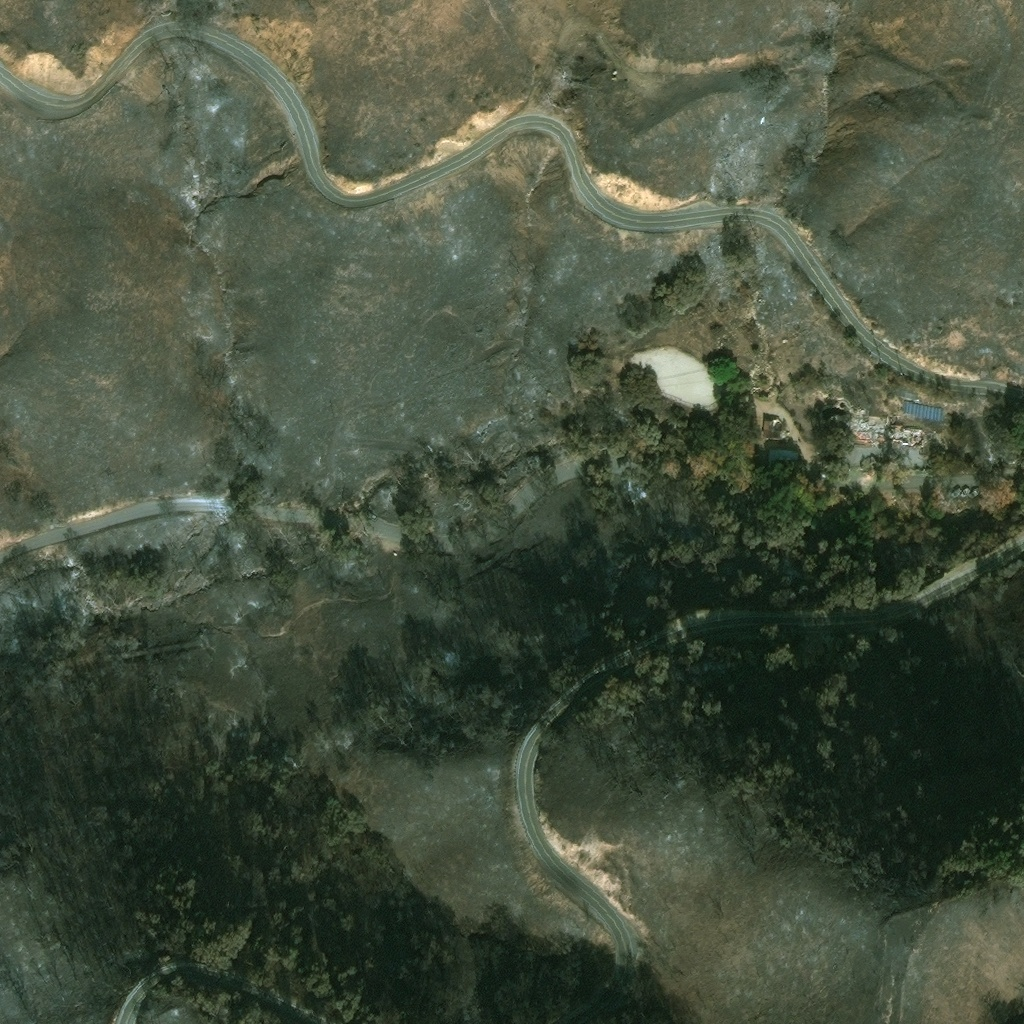0 no-damage: (900, 398, 943, 419), (767, 446, 798, 465)
2 major-damage: (762, 418, 786, 438)
3 destroyed: (854, 419, 921, 442), (455, 486, 479, 508), (1003, 453, 1020, 466), (445, 450, 456, 460)
